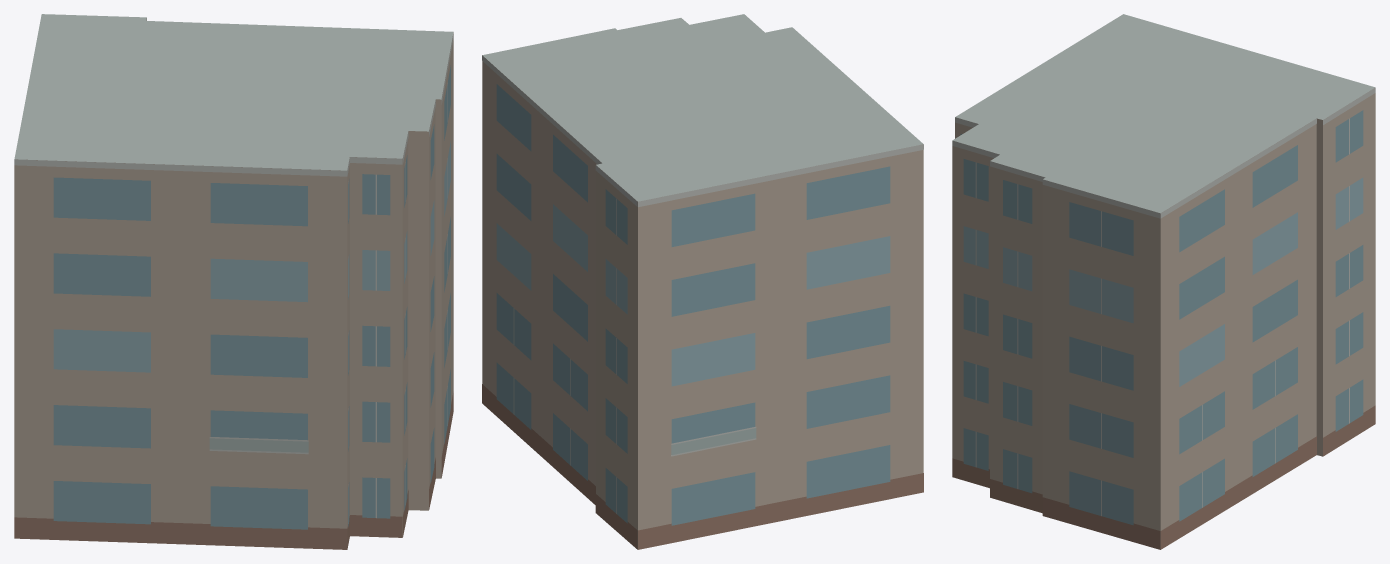
The model's file is survey-upis-32909966.glb.
3 views of the same model, side by side, from view 1: azimuth 30°, elevation 25°; view 2: azimuth 150°, elevation 25°; view 3: azimuth 270°, elevation 25° (orthographic). The views are drawn at different scales.
Parts seen in each view (by area): view 1: survey-upis-32909966.tmp; view 2: survey-upis-32909966.tmp; view 3: survey-upis-32909966.tmp.
Boxes of the visible parts, x1=… form: survey-upis-32909966.tmp: x1=14, y1=14, x2=453, y2=549; survey-upis-32909966.tmp: x1=482, y1=14, x2=923, y2=549; survey-upis-32909966.tmp: x1=952, y1=14, x2=1375, y2=549.
Bounding box in the file's own units: 19.37 × 15.25 × 17.39.
